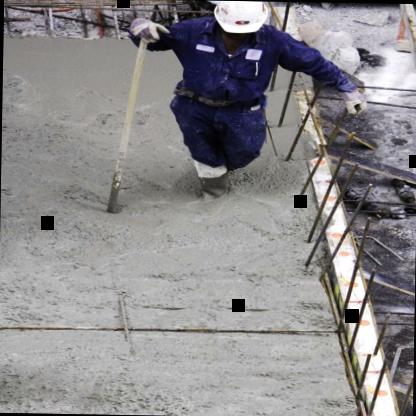helmet: (202, 0, 277, 40)
